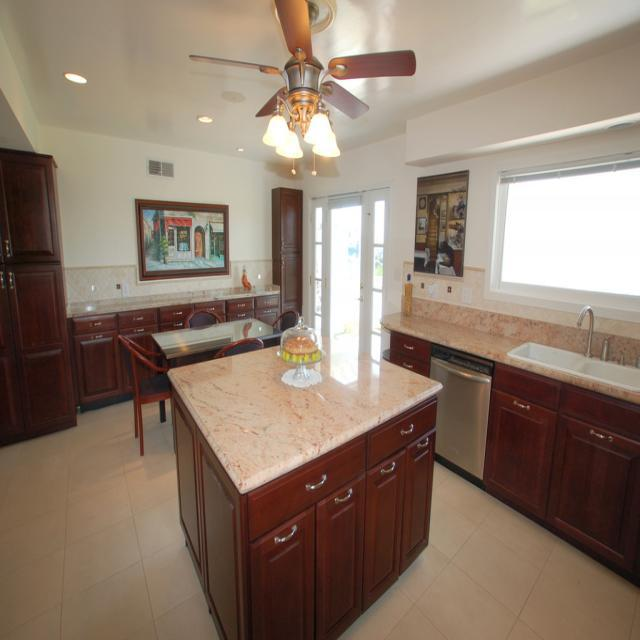bulb_on: (305, 110, 332, 146), (280, 127, 309, 158), (264, 117, 288, 145), (61, 74, 89, 88), (320, 147, 340, 158), (199, 115, 218, 126)
fan_off: (180, 0, 417, 118)
